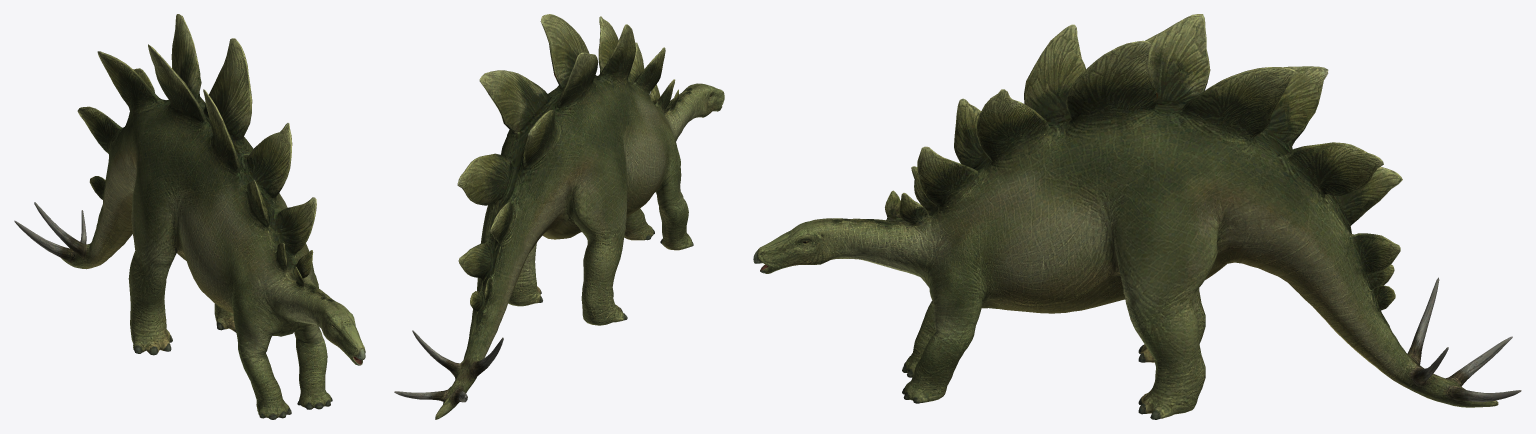
File: stegosaurus.gltf
3 renders of one model, left to right at view 1: azimuth 30°, elevation 25°; view 2: azimuth 150°, elevation 25°; view 3: azimuth 270°, elevation 25°, orthographic. The views are drawn at different scales.
Parts seen in each view (by area): view 1: Object_2; view 2: Object_2; view 3: Object_2.
Part boxes in pixels (left/top/right/bottom): Object_2: left=14, top=14, right=365, bottom=419; Object_2: left=394, top=14, right=724, bottom=419; Object_2: left=753, top=14, right=1521, bottom=419.
Bounding box in the file's own units: 19.78 × 47.1 × 85.01.
1 material, 1 textured.
